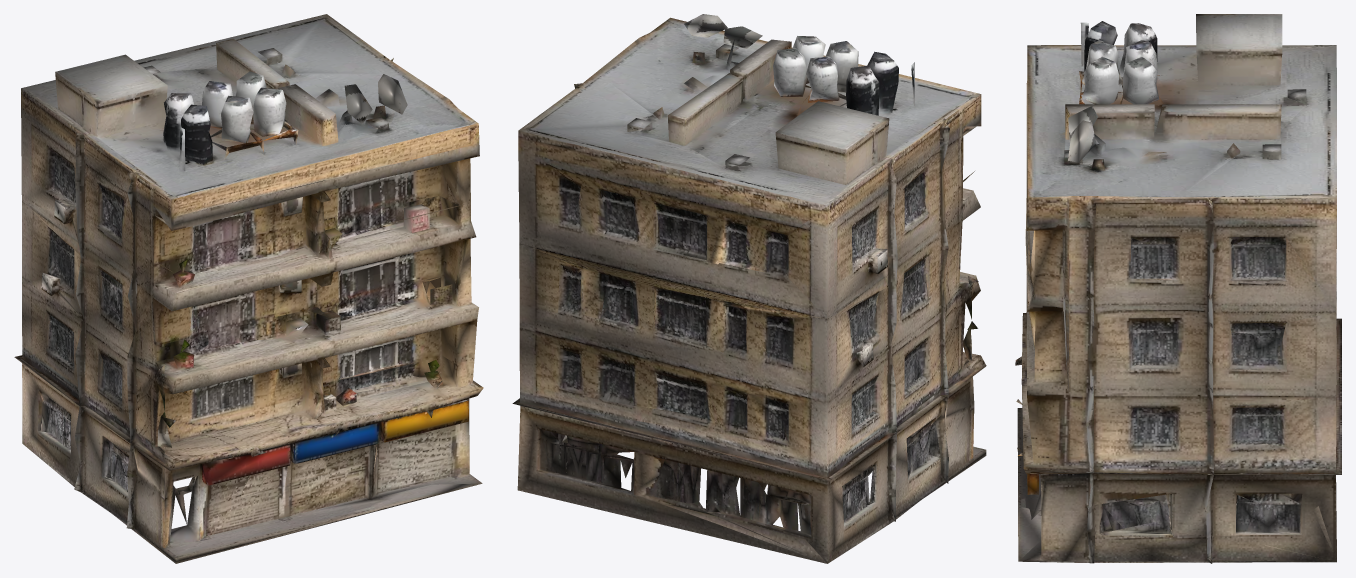
The model's file is bld_shops_far.glb.
3 renders of one model, left to right at view 1: azimuth 30°, elevation 25°; view 2: azimuth 150°, elevation 25°; view 3: azimuth 270°, elevation 25°, orthographic. The views are drawn at different scales.
Parts seen in each view (by area): view 1: geometry_0; view 2: geometry_0; view 3: geometry_0.
Boxes of the visible parts, x1,y1,x2,y2 form: geometry_0: (14, 14, 483, 563); geometry_0: (512, 14, 986, 563); geometry_0: (1015, 14, 1341, 563).
Size of the model in its own units: 0.6649 by 0.8156 by 0.574.
1 material, 1 textured.
